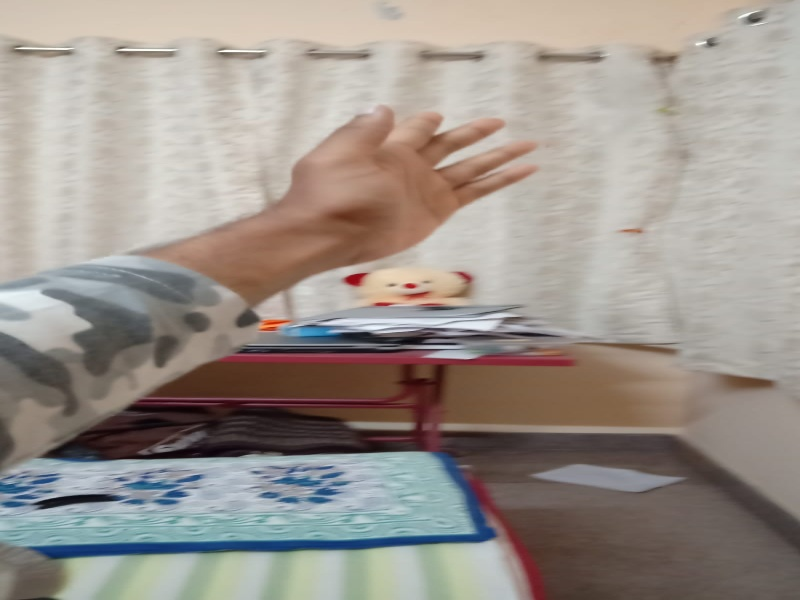Hand: (279, 95, 547, 278)
